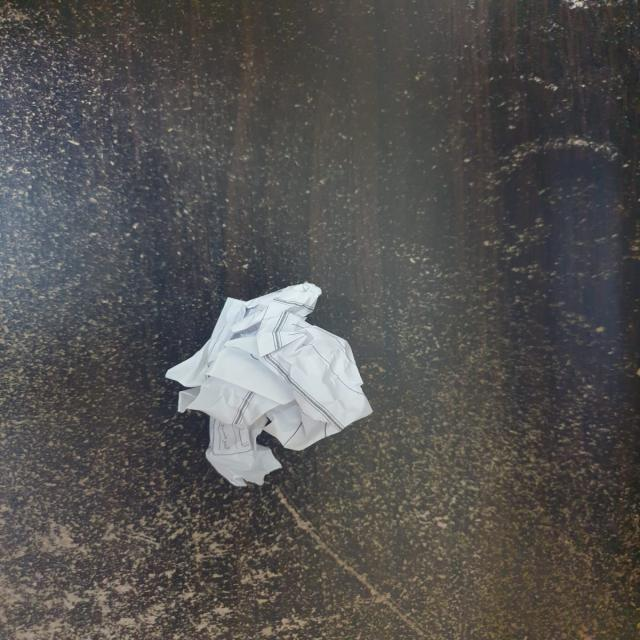Paper: (166, 276, 372, 484)
